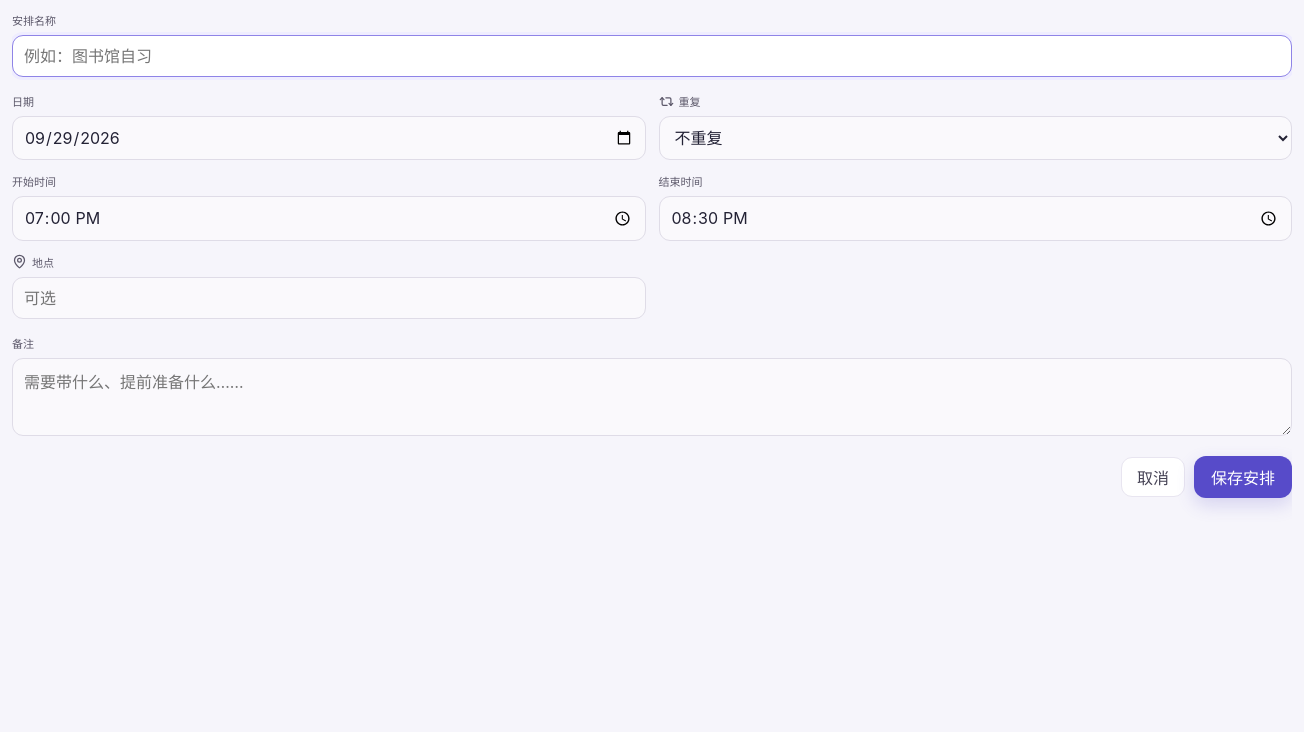
Test: 安排冲突提示 › 修改日期后按新日期重新检查冲突
The width and height of the screenshot is (1304, 732).
Step 1. Type "新安排" into the field labelled "安排名称" → (652, 56), box [12,35,1292,77]
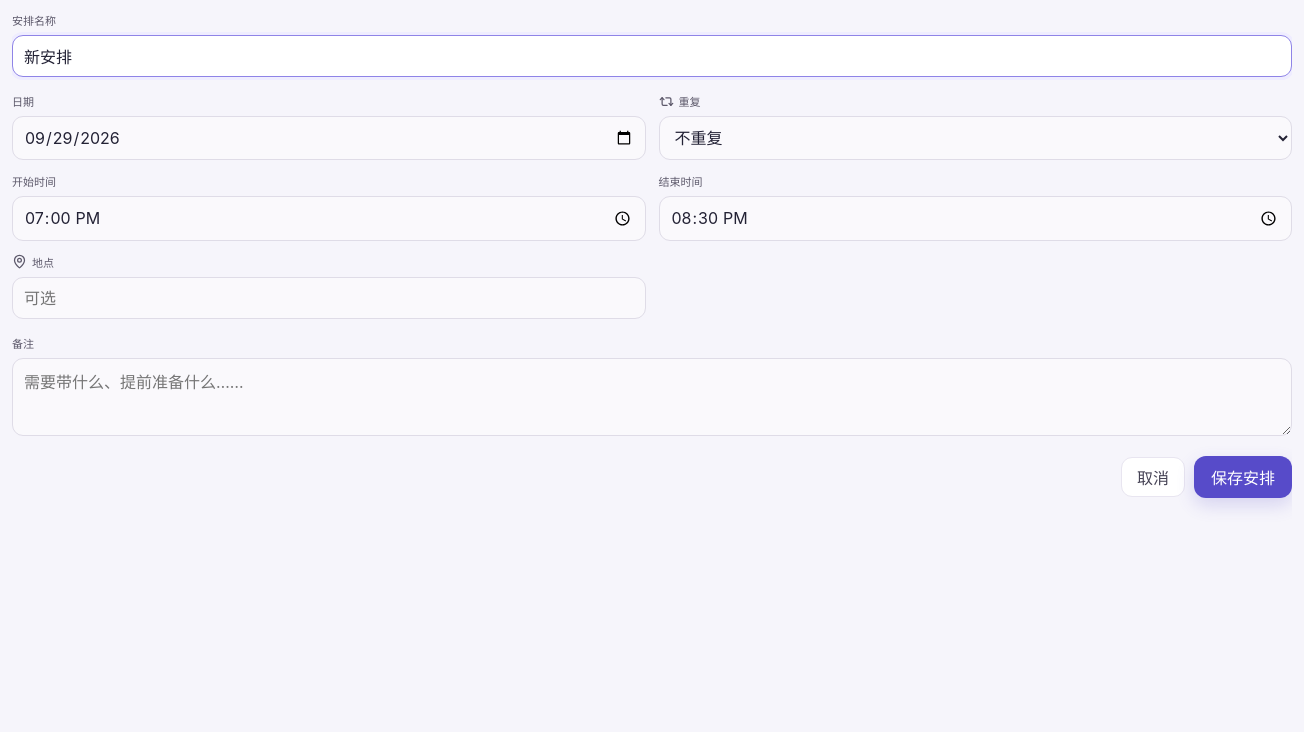
Step 2. Type "2026-09-30" into the date field labelled "日期" → (329, 138), box [12,116,646,160]
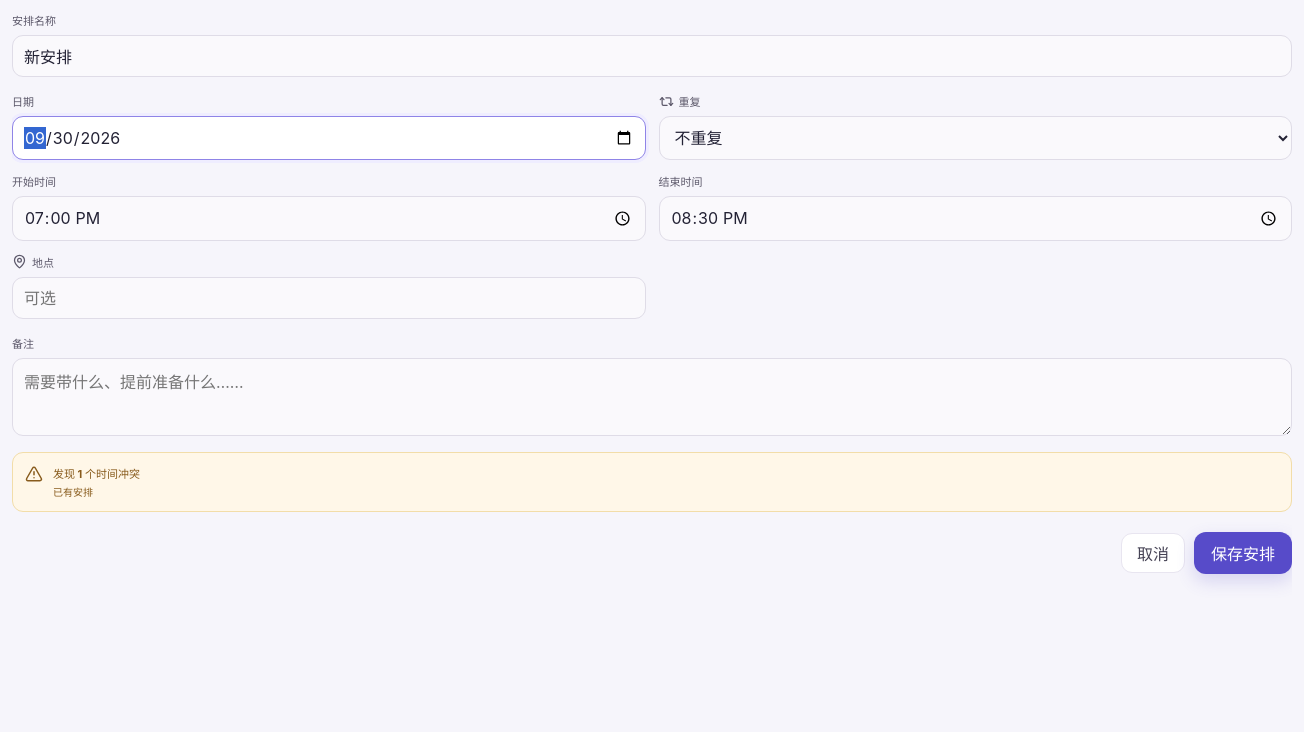
Check: the text "发现 1 个时间冲突" is shown, box [53,465,140,481]
